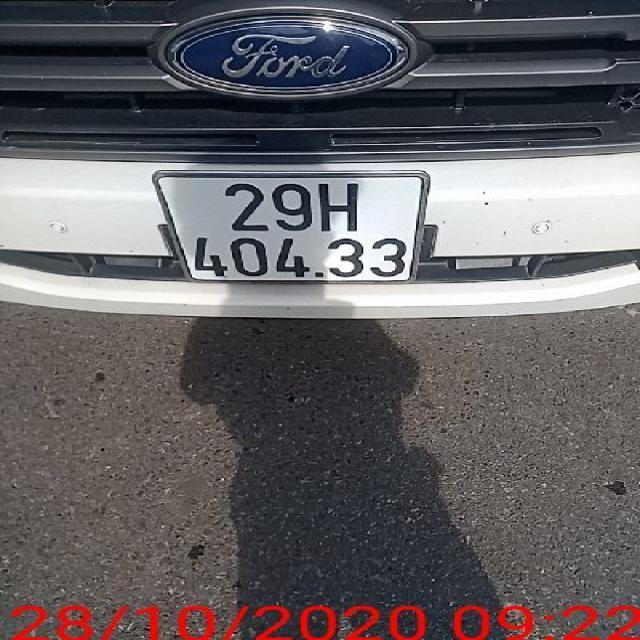bien_so_oto: (151, 168, 431, 286)
